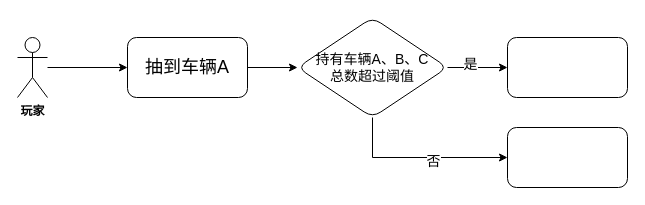
This 645x205 diagram has some shape labels left out. The shapes that lost their labels are listed below. From the top down, each one's centre as x and y in pixels, then its label:
At point 567,67: "分解为活动碎片".
At point 567,157: "发放车辆A".
